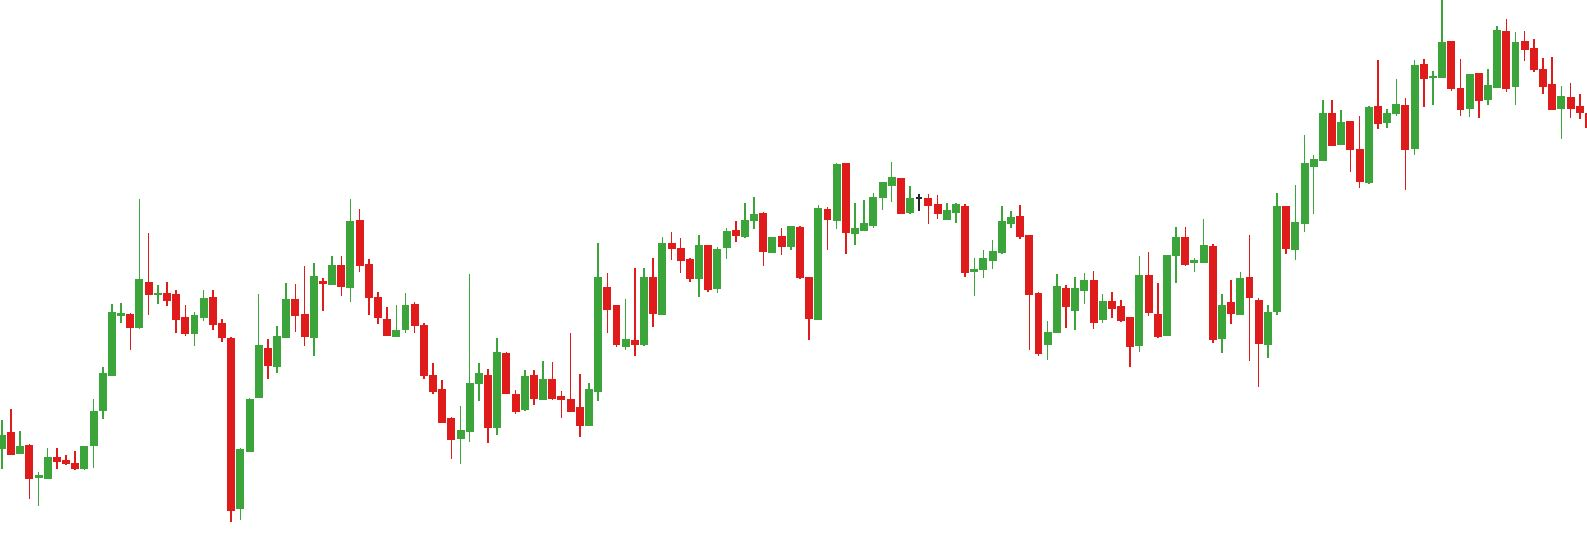buy: (22, 352, 247, 524), (694, 210, 824, 346), (1038, 298, 1146, 369), (1215, 285, 1272, 391)
